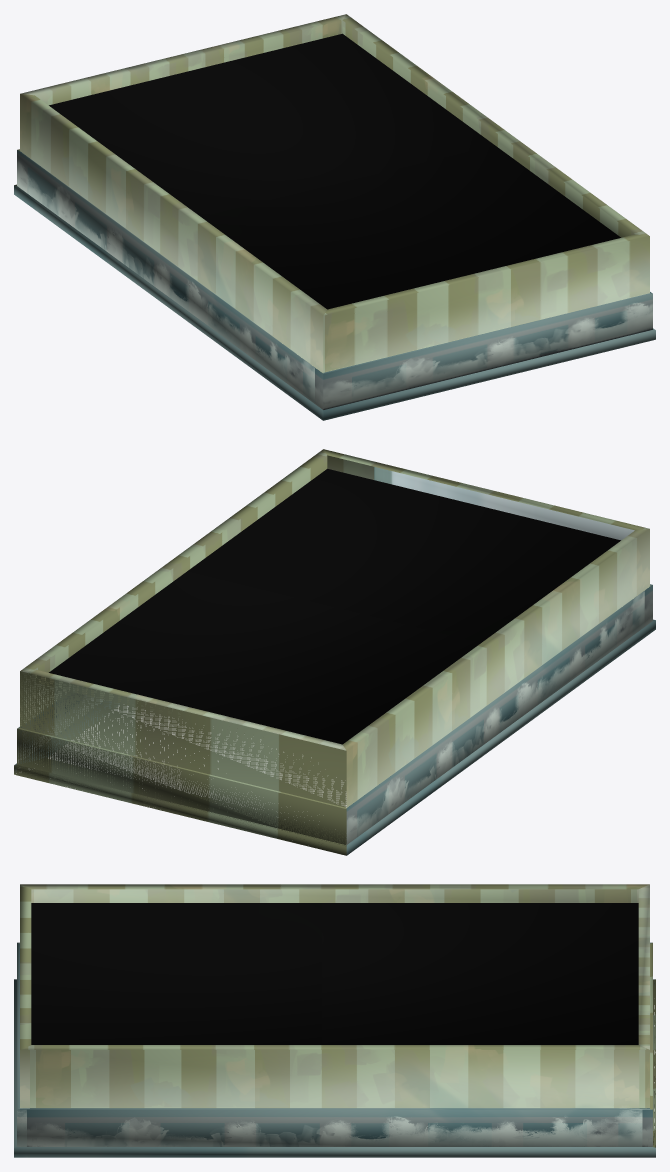
Rendered from Quartos.fbx.
The picture shows the model from 3 angles, top to bottom: view 1: azimuth 30°, elevation 25°; view 2: azimuth 150°, elevation 25°; view 3: azimuth 270°, elevation 25°; orthographic projection. The views are drawn at different scales.
Visible parts, largest first — view 1: Quartos; view 2: Quartos; view 3: Quartos.
Boxes of the visible parts, <box> form: Quartos: <box>14,14,655,420</box>; Quartos: <box>14,449,655,855</box>; Quartos: <box>14,884,655,1157</box>.
Size of the model in its own units: 1406 by 2263 by 413.
